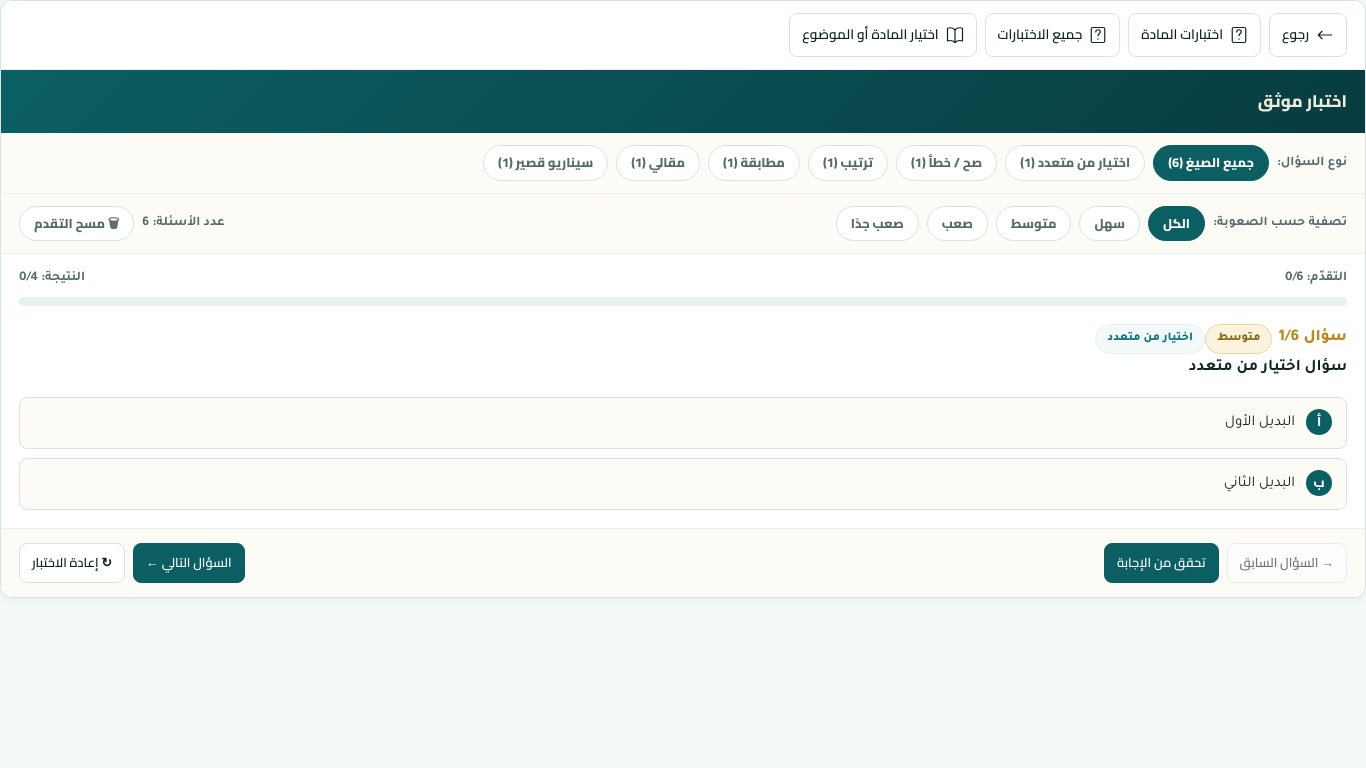
explicit six-format classification › classifies objective questions, essays and short scenarios separately without exposing models
Click the button "اختيار من متعدد (1)" at (1075,163), box x1=1005 y1=145 x2=1145 y2=181
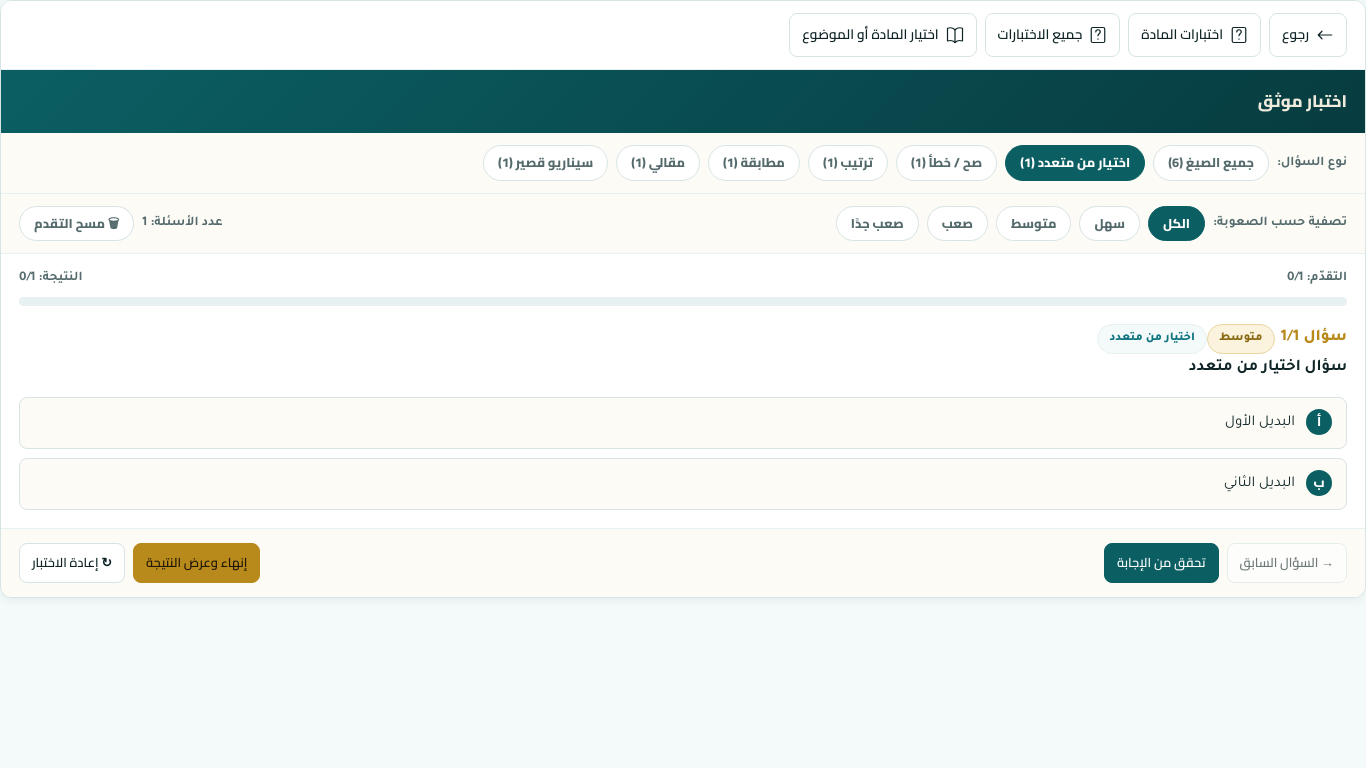
Expected: the heading "سؤال اختيار من متعدد" is shown, x1=1189 y1=360 x2=1347 y2=376
Result: the text "عدد الأسئلة: 1" is shown at x1=142 y1=216 x2=223 y2=230
Click the button "صح / خطأ (1)" at (947,163), box x1=896 y1=145 x2=997 y2=181
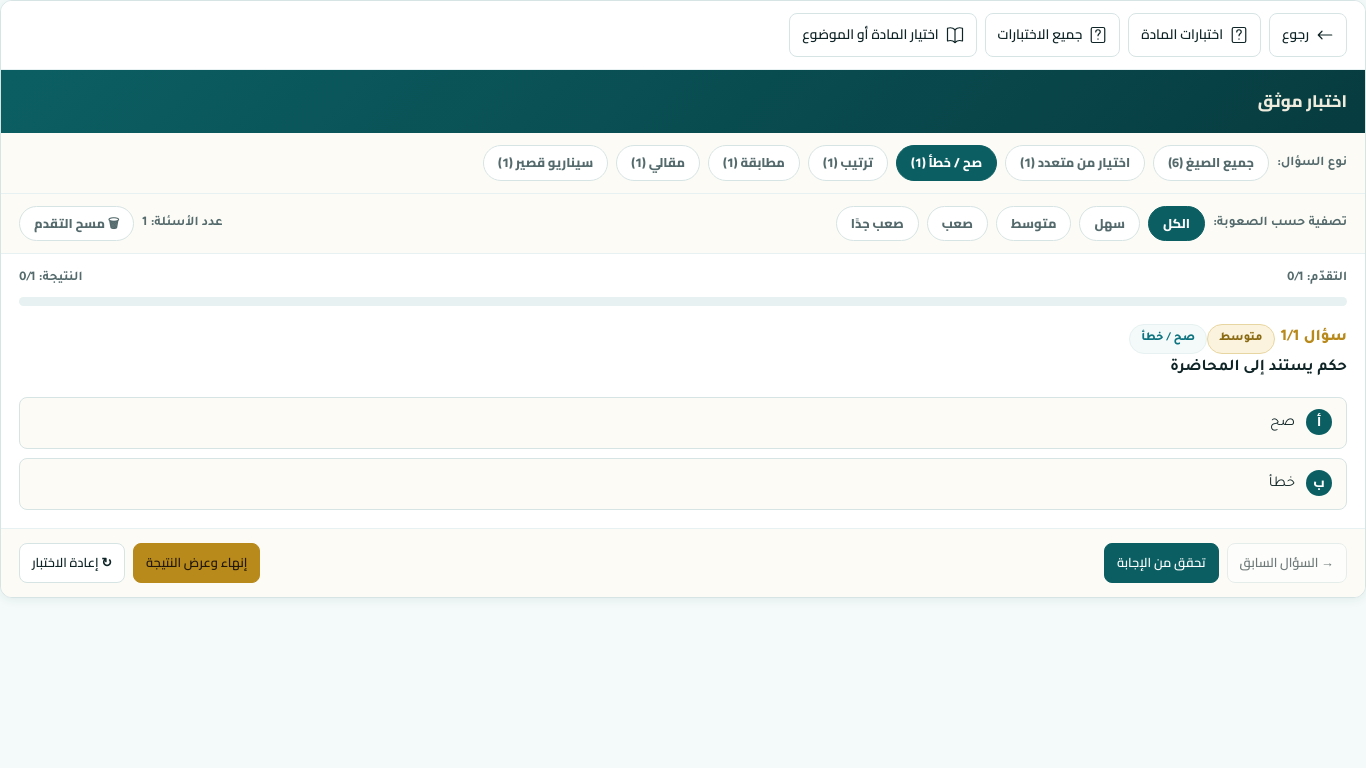
Result: the text "عدد الأسئلة: 1" is shown at x1=142 y1=216 x2=223 y2=230
Result: the heading "حكم يستند إلى المحاضرة" is shown at x1=1170 y1=360 x2=1347 y2=376
Click the button "مطابقة (1)" at (754,163), box x1=708 y1=145 x2=800 y2=181
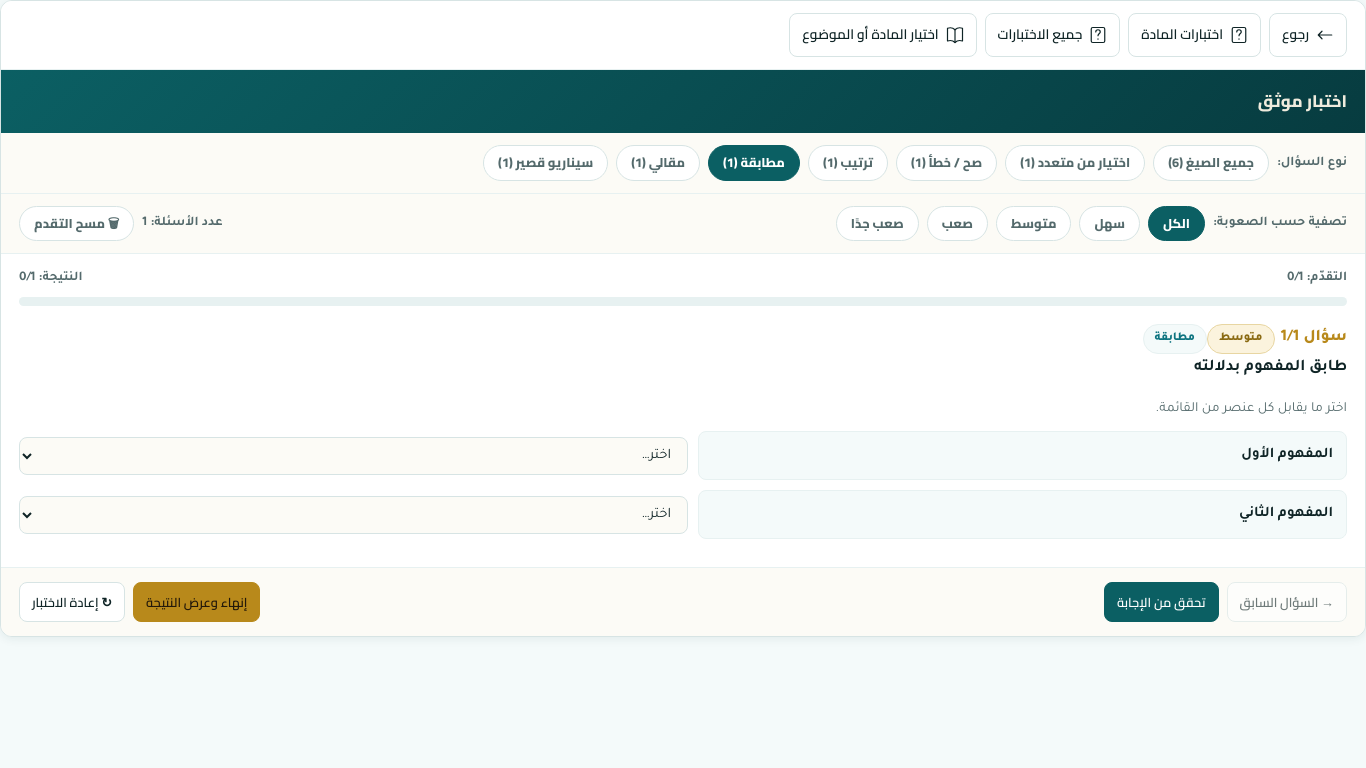
Result: the text "عدد الأسئلة: 1" is shown at x1=142 y1=216 x2=223 y2=230
Result: the heading "طابق المفهوم بدلالته" is shown at x1=1194 y1=360 x2=1347 y2=376
Click the button "ترتيب (1)" at (848,163), box x1=808 y1=145 x2=888 y2=181
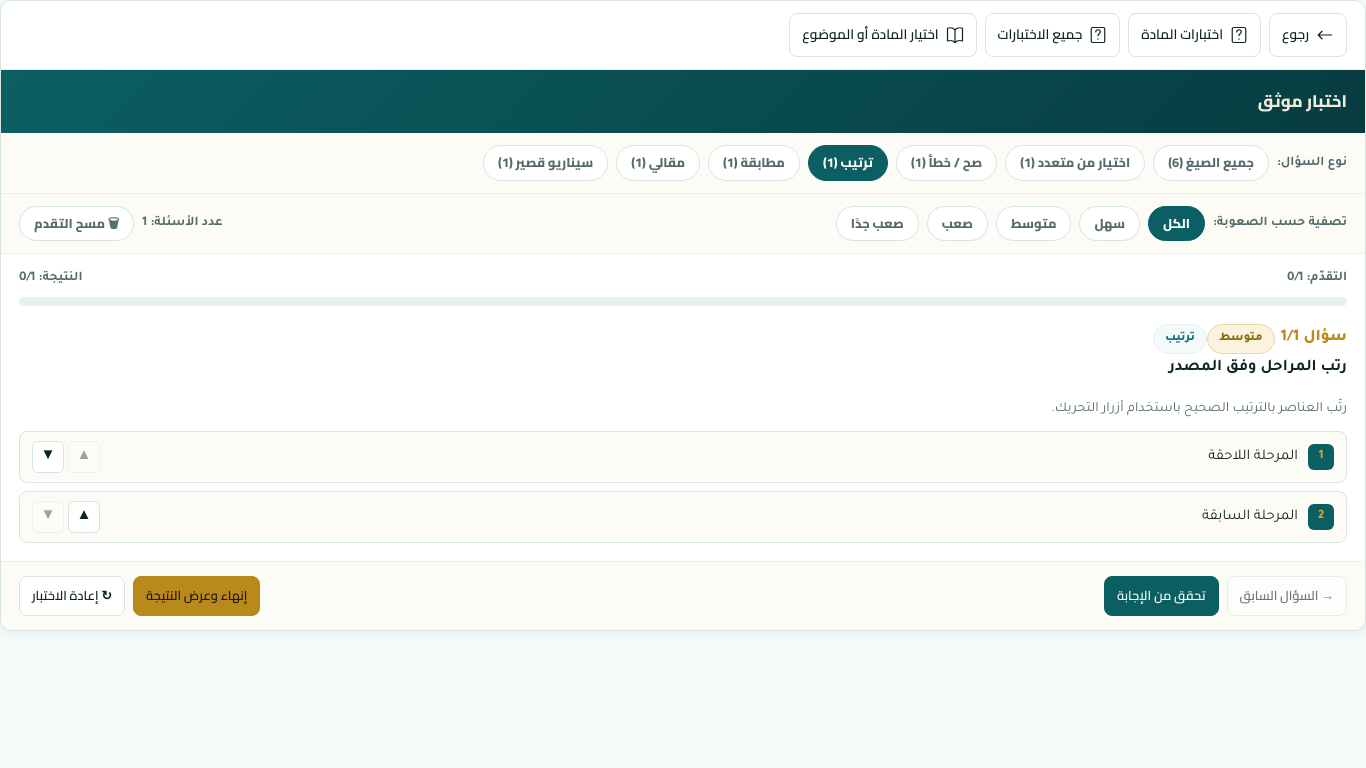
Result: the text "عدد الأسئلة: 1" is shown at x1=142 y1=216 x2=223 y2=230
Result: the heading "رتب المراحل وفق المصدر" is shown at x1=1169 y1=360 x2=1347 y2=376
Click the button "مقالي (1)" at (658,163), box x1=616 y1=145 x2=700 y2=181
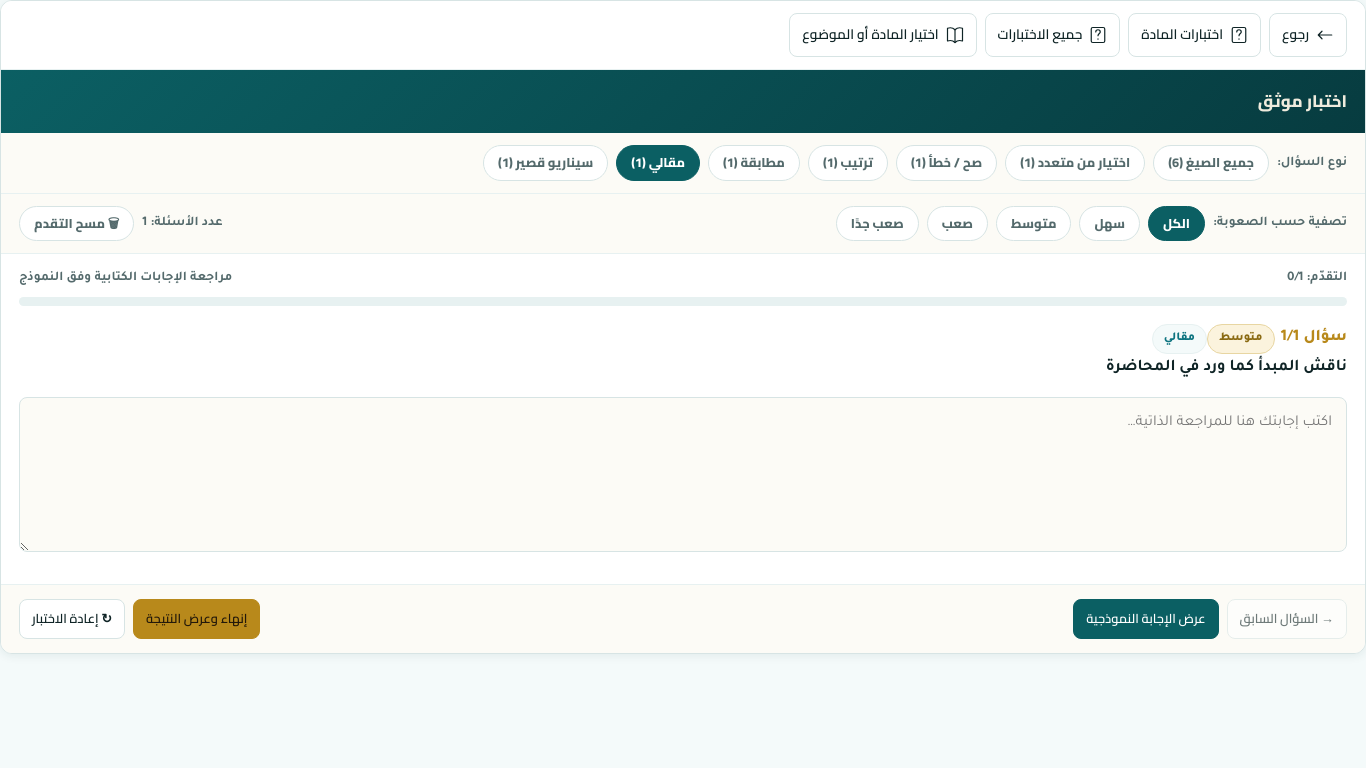
Result: the text "عدد الأسئلة: 1" is shown at x1=142 y1=216 x2=223 y2=230
Result: the heading "ناقش المبدأ كما ورد في المحاضرة" is shown at x1=1106 y1=360 x2=1347 y2=376
Click the button "سيناريو قصير (1)" at (546,163), box x1=483 y1=145 x2=608 y2=181
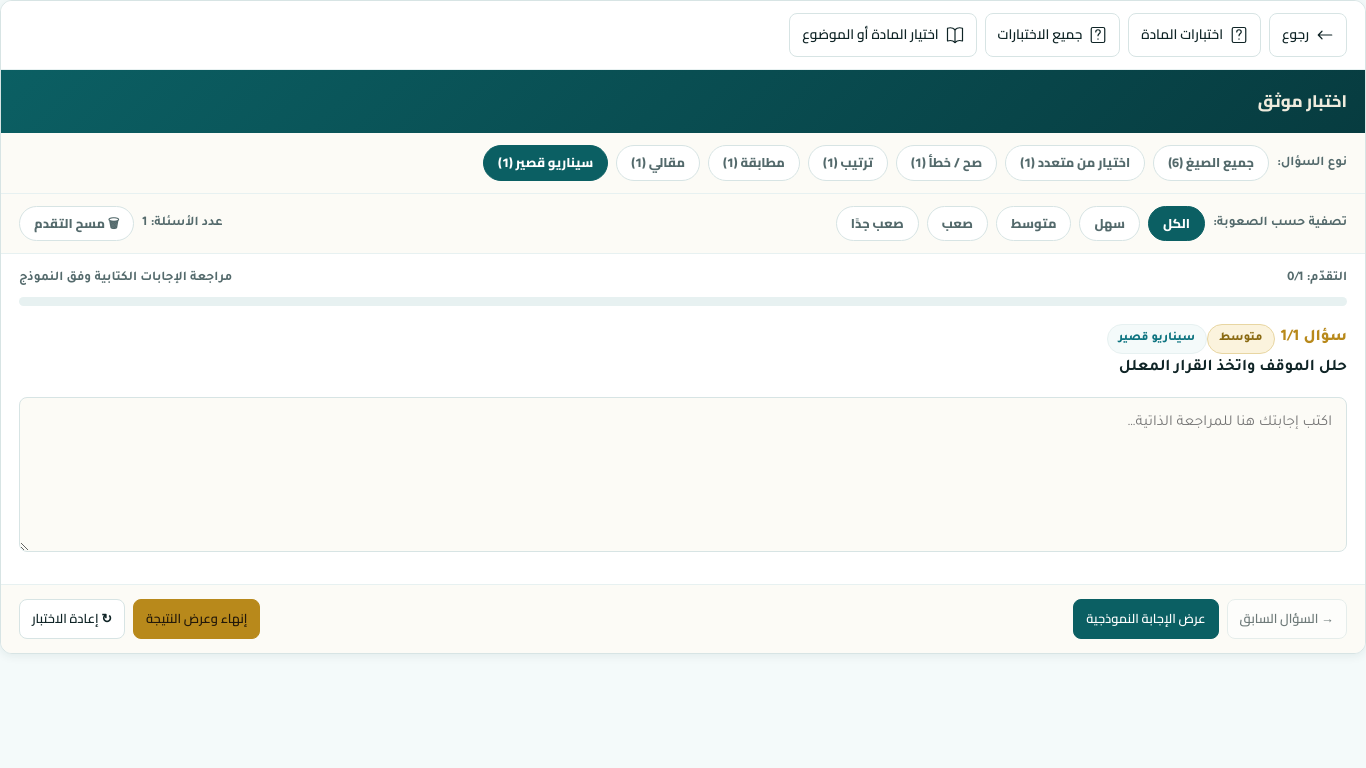
Result: the text "عدد الأسئلة: 1" is shown at x1=142 y1=216 x2=223 y2=230
Result: the heading "حلل الموقف واتخذ القرار المعلل" is shown at x1=1119 y1=360 x2=1347 y2=376
